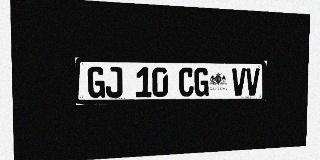0: (152, 67, 168, 97)
1: (136, 67, 152, 97)
C: (179, 68, 194, 97)
G: (88, 67, 105, 98), (194, 68, 209, 96)
J: (105, 67, 122, 98)
V: (232, 68, 246, 96), (246, 68, 260, 96)
